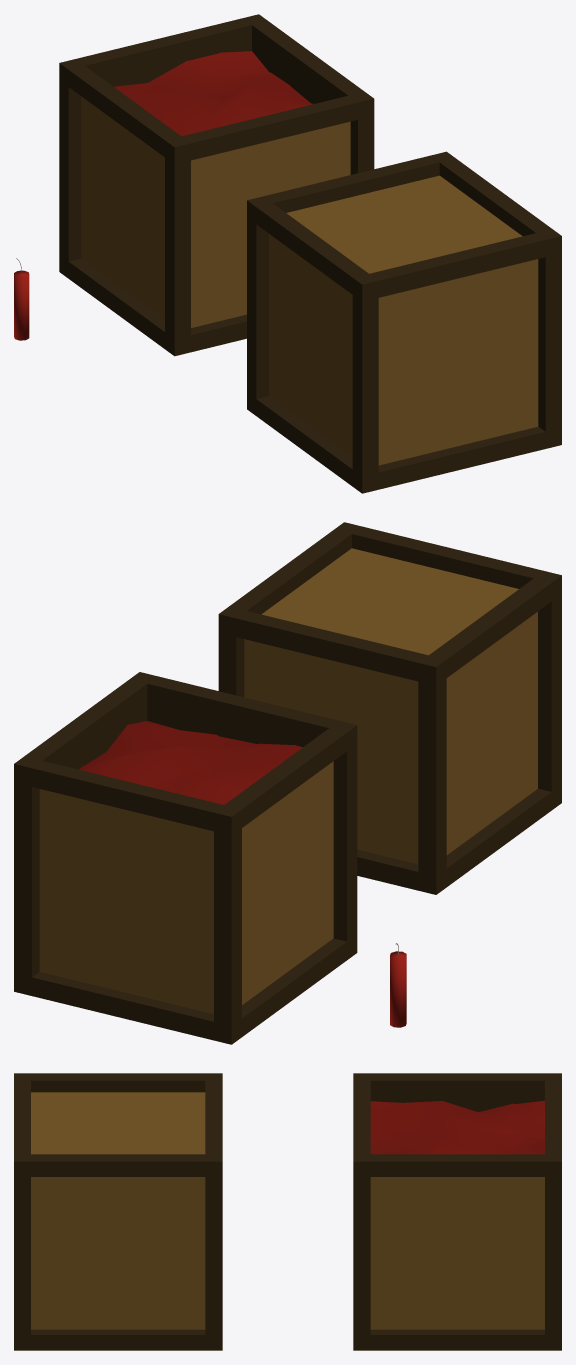
Rendered from CaixaDinamite.fbx.
3 views of the same model, one above another, from view 1: azimuth 30°, elevation 25°; view 2: azimuth 150°, elevation 25°; view 3: azimuth 270°, elevation 25° (orthographic). The views are drawn at different scales.
Parts seen in each view (by area): view 1: Caixa, Caixa_Dinamite, Dinamite; view 2: Caixa_Dinamite, Caixa, Dinamite; view 3: Caixa, Caixa_Dinamite.
Part boxes in pixels (box(x1,y1,x2,y2)): Caixa: box(247, 151, 561, 493); Caixa_Dinamite: box(59, 14, 374, 356); Dinamite: box(14, 258, 29, 340); Caixa_Dinamite: box(14, 672, 357, 1044); Caixa: box(218, 522, 561, 894); Dinamite: box(390, 943, 406, 1027); Caixa: box(14, 1073, 222, 1350); Caixa_Dinamite: box(353, 1073, 561, 1350).
Bounding box in the file's own units: 46.43 × 30.72 × 80.72.
